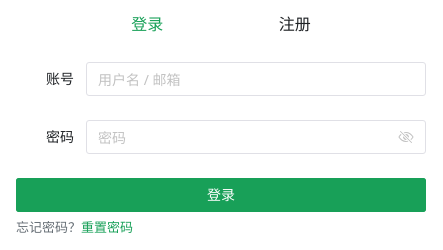
Test: 登录 › 40001 fieldErrors 逐字段展示
Type "lin" into the field with placeholder "用户名 / 邮箱". click: (256, 79)
box: [98,62,414,96]
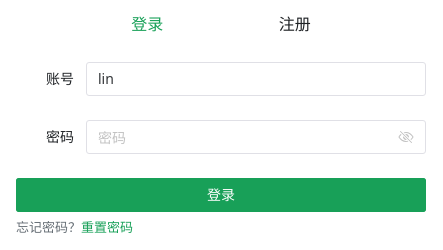
Type "wrong-pass" into the password field with placeholder "密码". click: (246, 137)
box: [98,120,394,154]
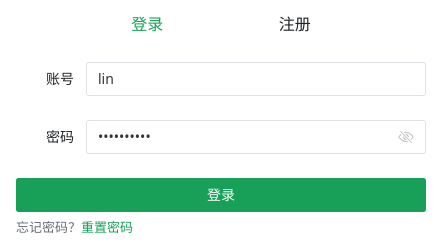
Click the button with test id "login-submit". click: (221, 195)
box: [16,178,426,212]
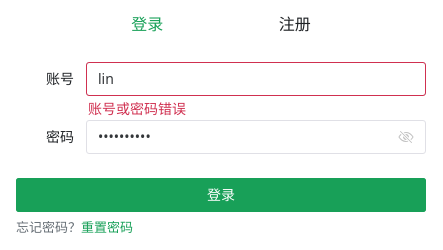
Expected: the text "账号或密码错误" is shown, [88,99,186,118]
